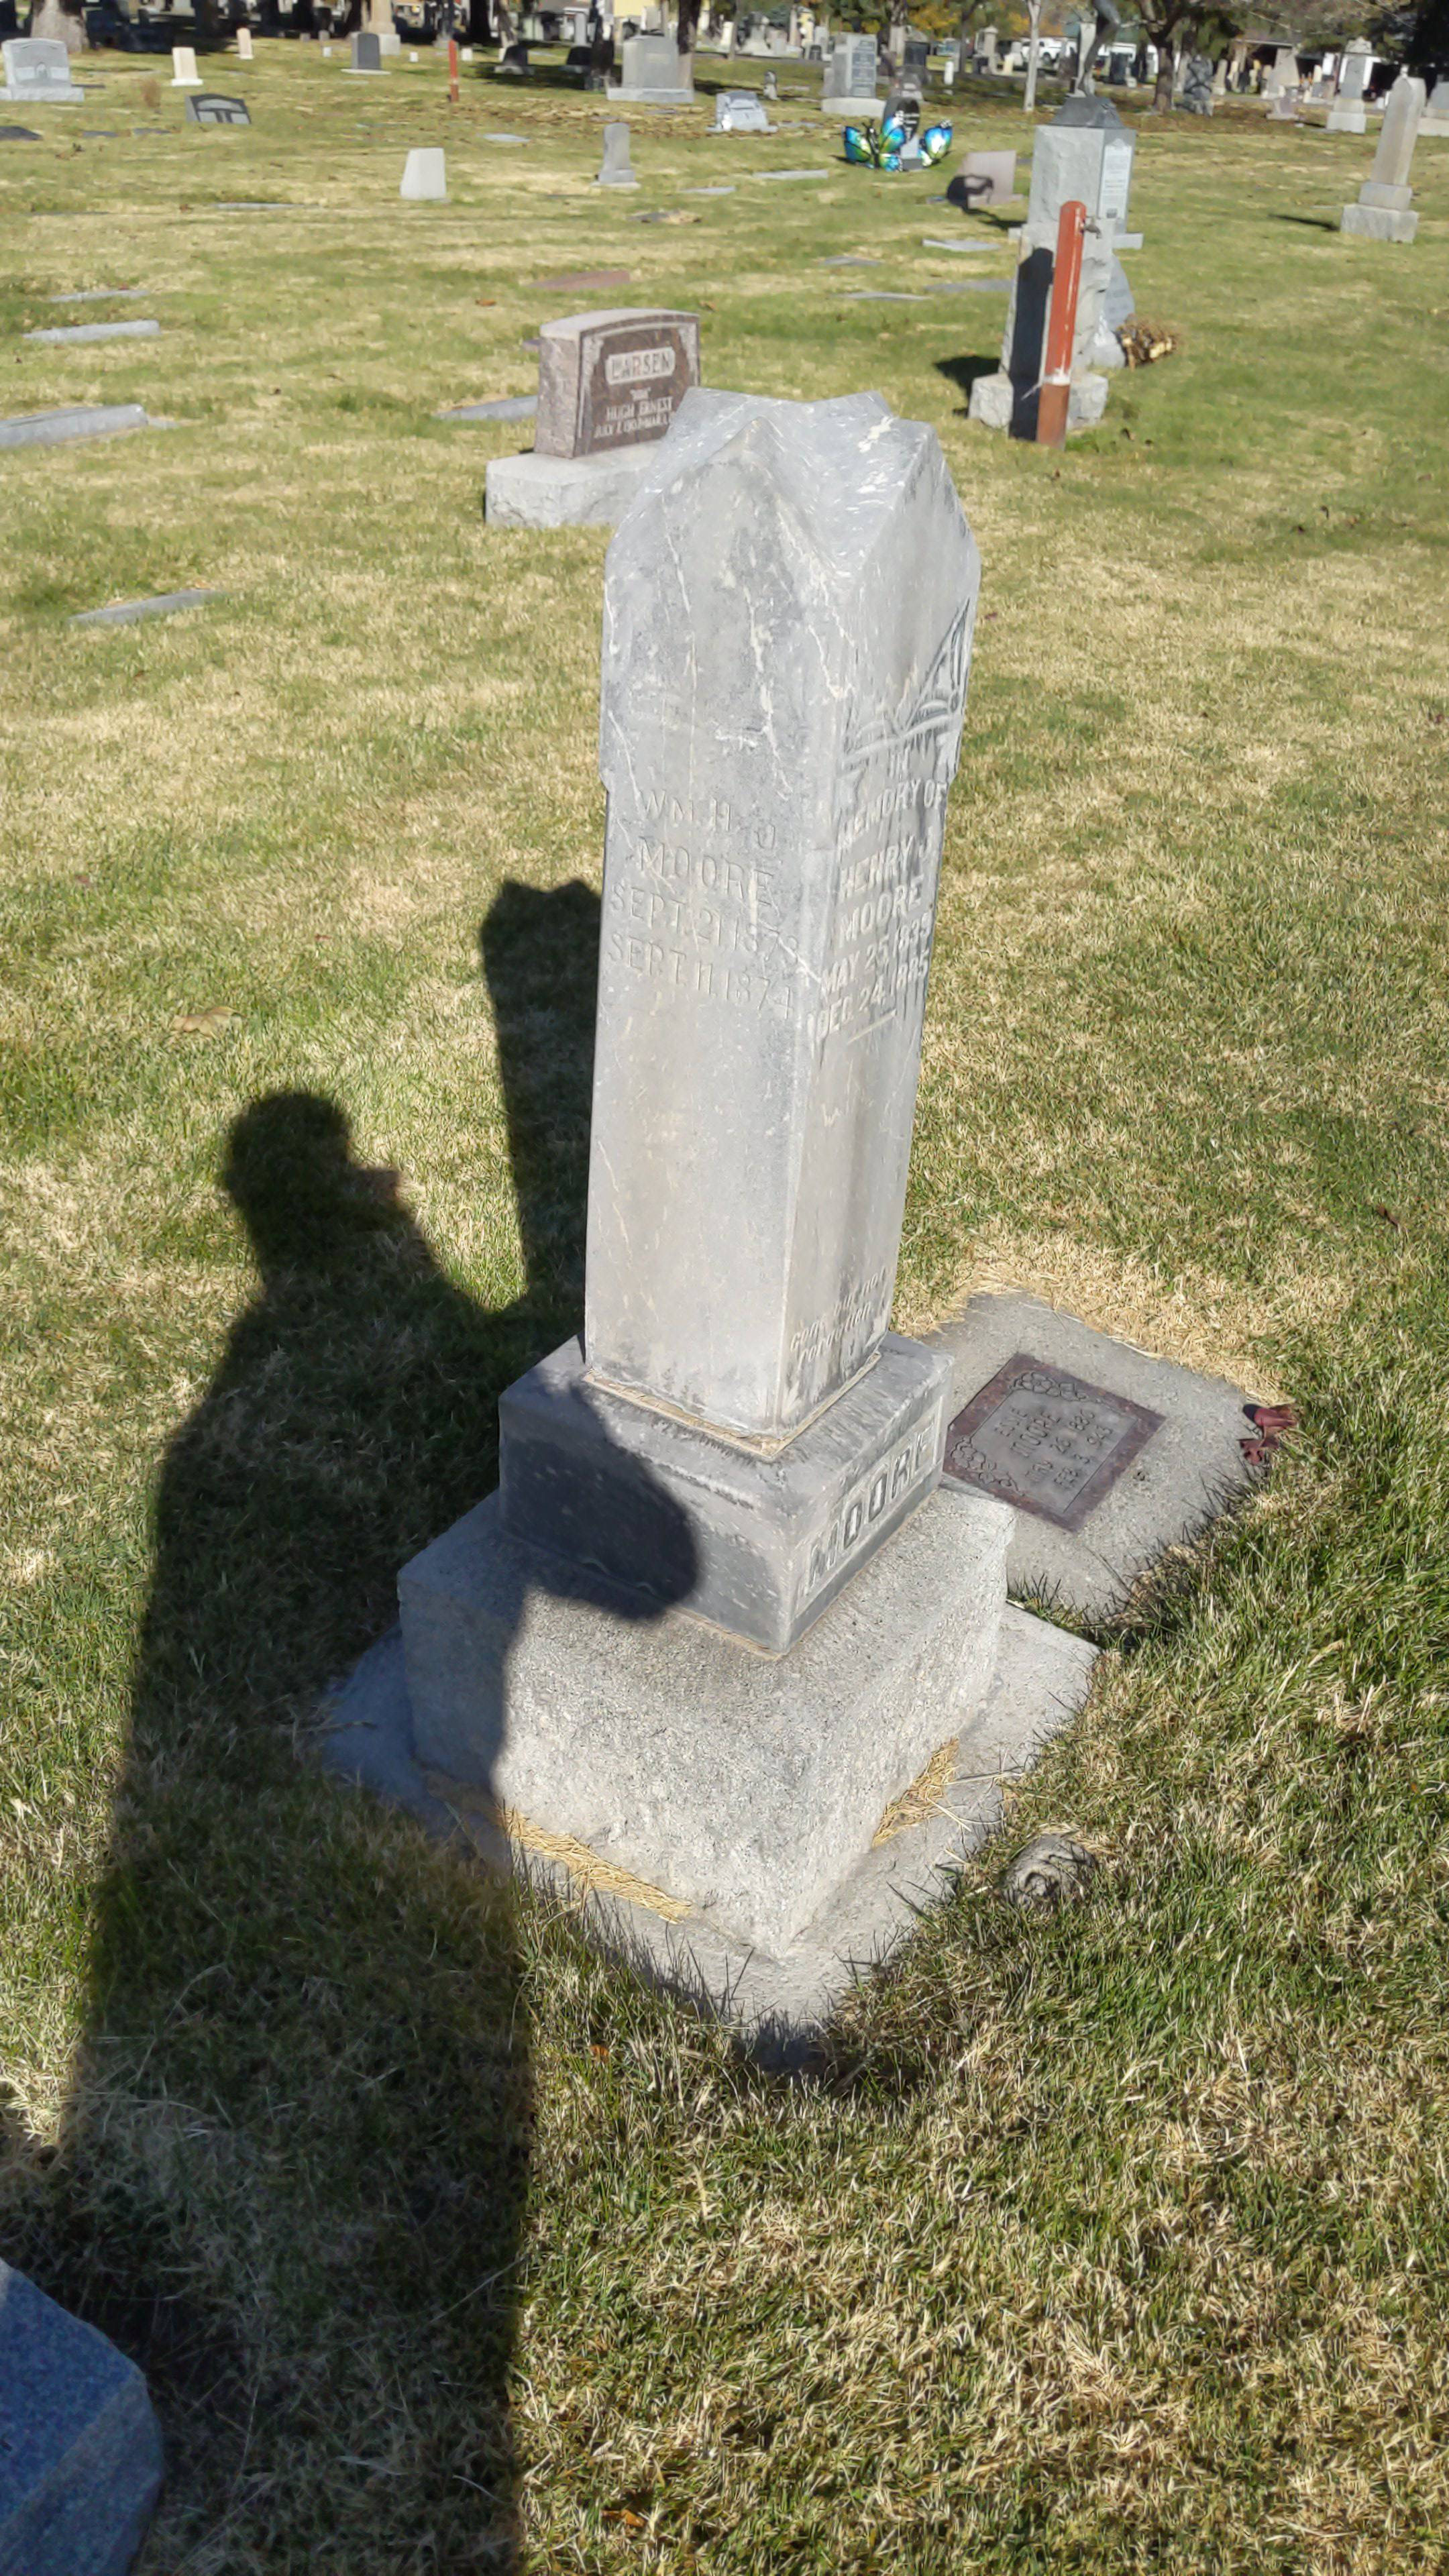obelisk: (513, 384, 938, 1633)
